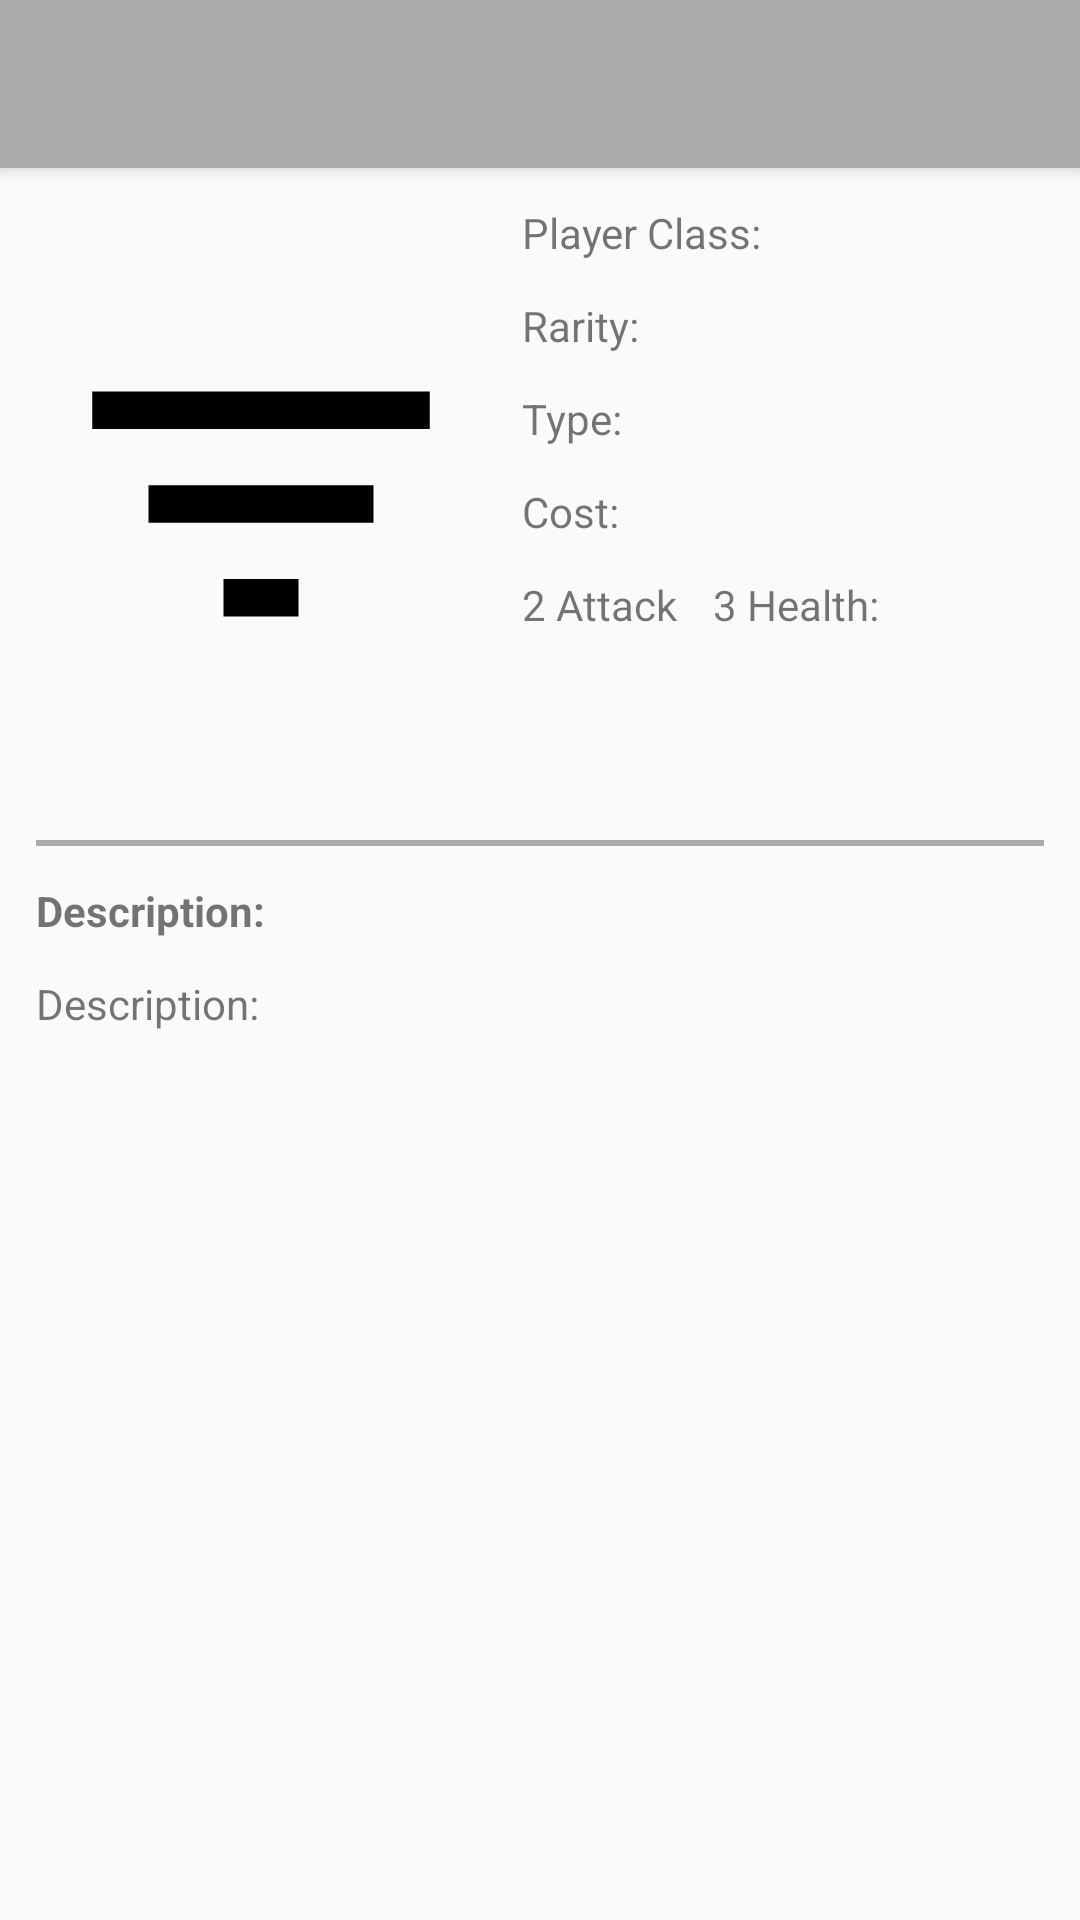

Where to tap for icons on this 1080px×1920px app screen, as point (x, y):
filter: point (261, 504)
